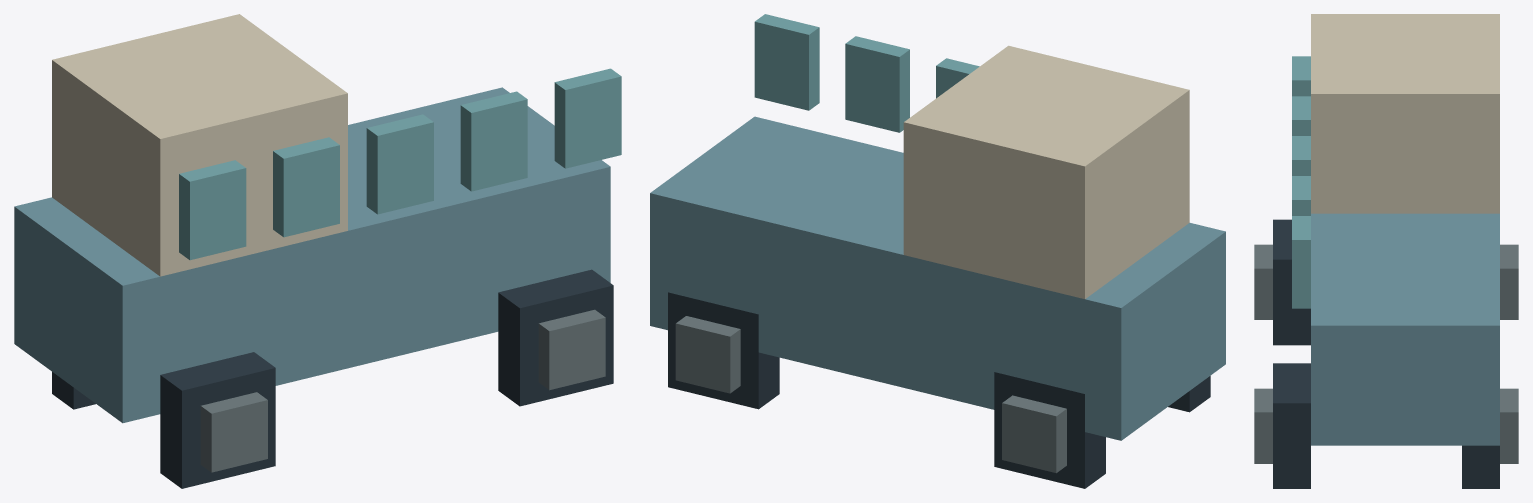
File: travel-15.glb
The picture shows the model from 3 angles, left to right: view 1: azimuth 30°, elevation 25°; view 2: azimuth 150°, elevation 25°; view 3: azimuth 270°, elevation 25°; orthographic projection. The views are drawn at different scales.
Visible parts, largest first — view 1: Train model; view 2: Train model; view 3: Train model.
Boxes of the visible parts, x1=… form: Train model: x1=14, y1=14, x2=621, y2=488; Train model: x1=650, y1=14, x2=1225, y2=488; Train model: x1=1254, y1=14, x2=1518, y2=488.
Size of the model in its own units: 2.08 by 1.36 by 1.12.
